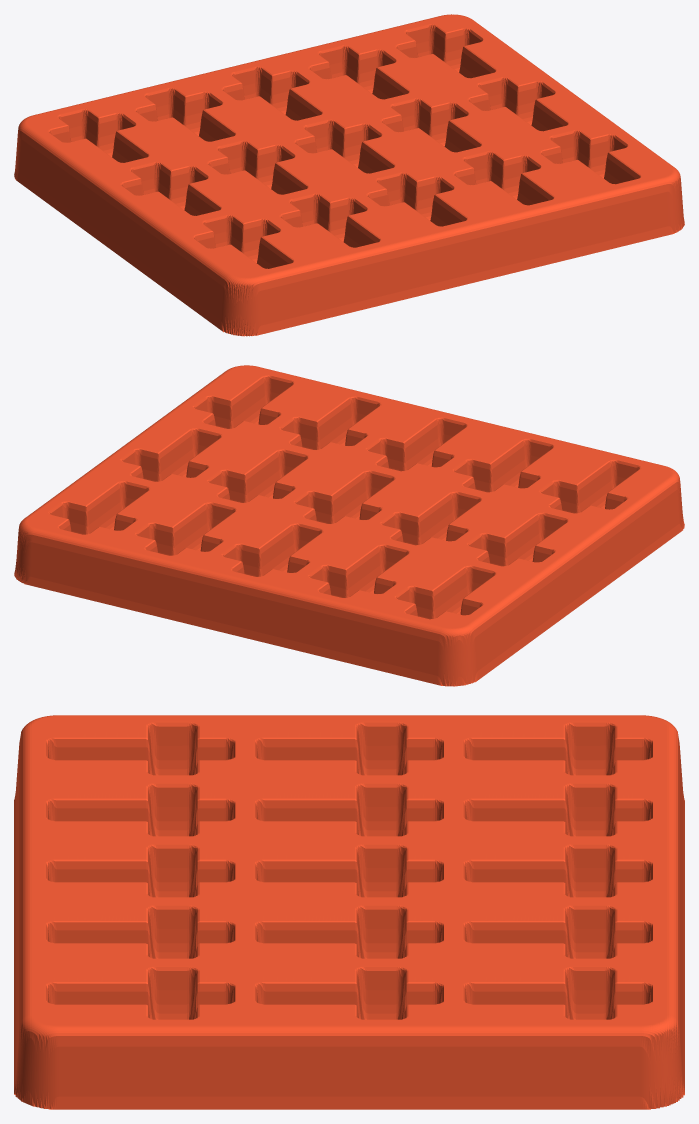
The model's file is mold.glb.
3 renders of one model, top to bottom at view 1: azimuth 30°, elevation 25°; view 2: azimuth 150°, elevation 25°; view 3: azimuth 270°, elevation 25°, orthographic. The views are drawn at different scales.
Visible parts, largest first — view 1: geometry_0; view 2: geometry_0; view 3: geometry_0.
Boxes of the visible parts, left/top/right/bottom form: geometry_0: left=14, top=14, right=684, bottom=336; geometry_0: left=14, top=365, right=684, bottom=686; geometry_0: left=14, top=715, right=684, bottom=1109.
Size of the model in its own units: 0.1592 by 0.0175 by 0.1392.
